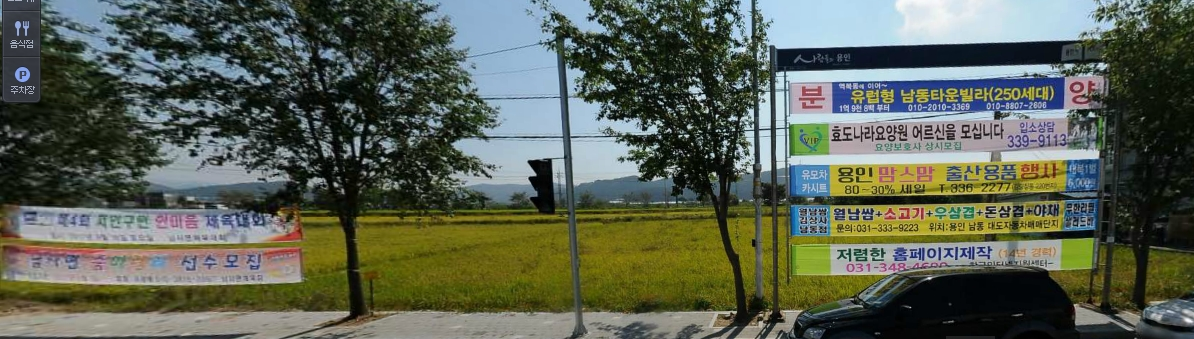banner: (766, 224, 1124, 280), (1, 240, 314, 297), (769, 69, 1126, 111), (769, 113, 1126, 155), (770, 193, 1113, 235), (1, 203, 332, 239), (766, 162, 1114, 195)
